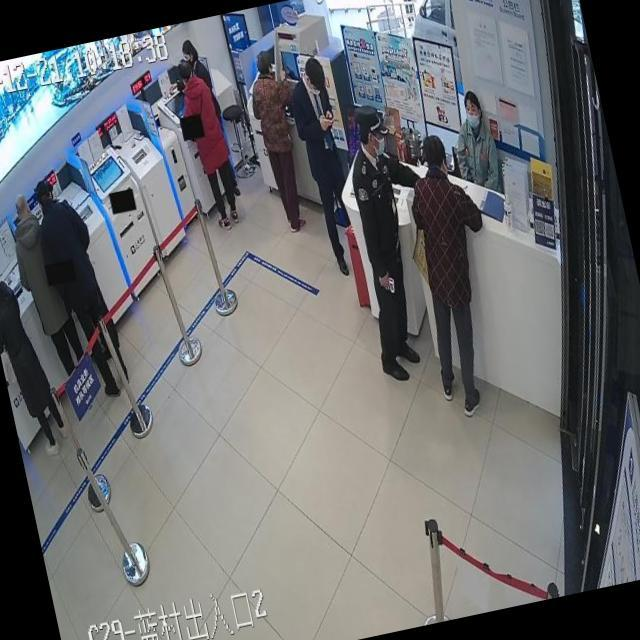person: (391, 124, 522, 419), (330, 98, 462, 384), (28, 169, 132, 405), (28, 168, 132, 404), (282, 54, 368, 278), (2, 186, 86, 382), (240, 46, 320, 237), (0, 254, 71, 460), (169, 51, 246, 234), (184, 41, 240, 196), (178, 33, 235, 185), (442, 88, 504, 196)
